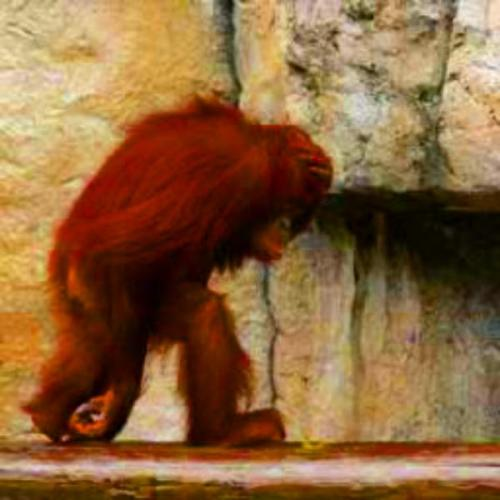orangutan-endangered: (32, 102, 332, 448)
